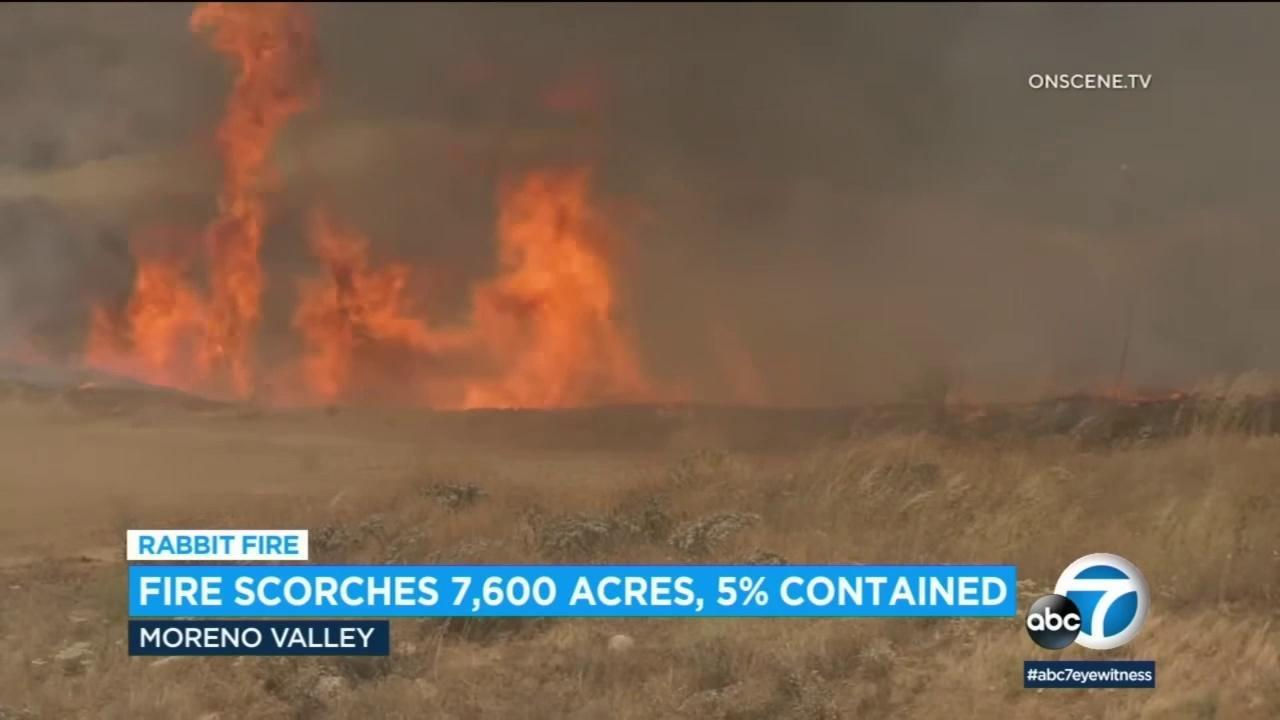fire: (79, 3, 681, 411), (1133, 392, 1183, 402)
smoke: (0, 3, 1280, 411)
